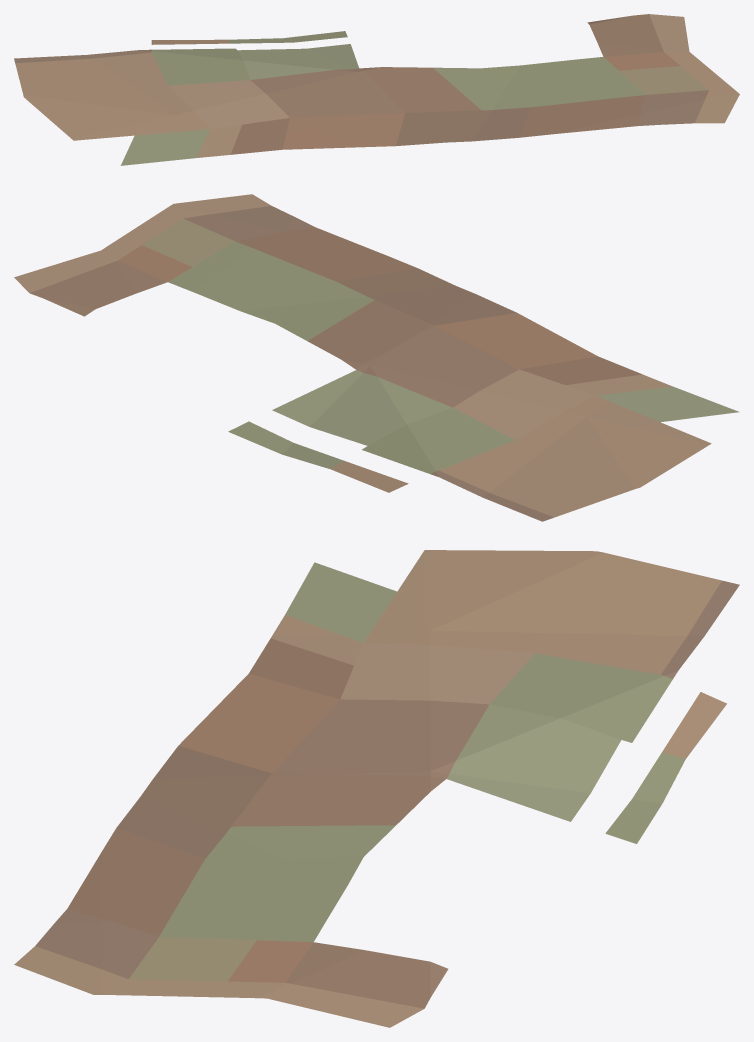
File: farm_-43_-35_soil.glb
3 renders of one model, top to bottom at view 1: azimuth 30°, elevation 25°; view 2: azimuth 150°, elevation 25°; view 3: azimuth 270°, elevation 25°, orthographic. The views are drawn at different scales.
Visible parts, largest first — view 1: geometry_0; view 2: geometry_0; view 3: geometry_0.
Boxes of the visible parts, x1,y1,x2,y2 form: geometry_0: (14, 14, 739, 165); geometry_0: (14, 194, 739, 521); geometry_0: (14, 550, 739, 1027).
Size of the model in its own units: 263 by 10.5 by 177.
